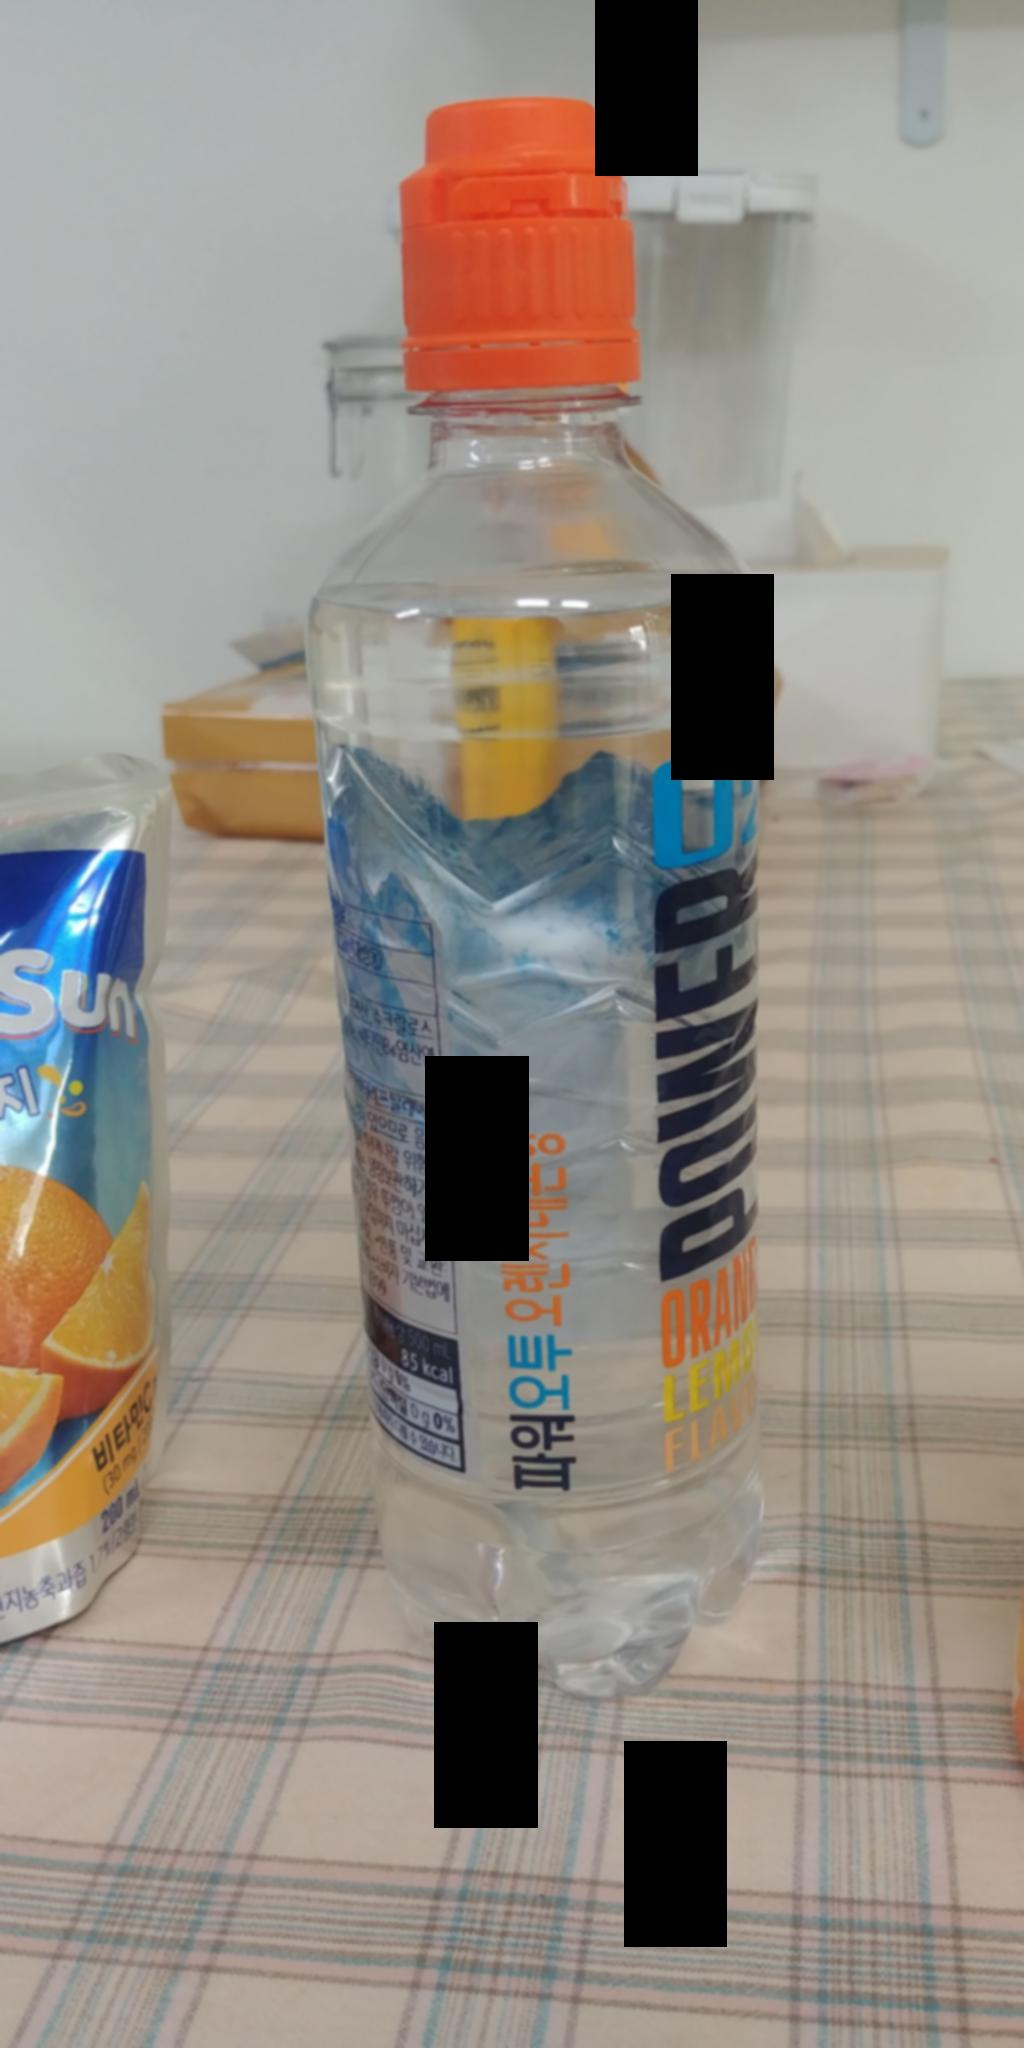powerO2_orange: (286, 84, 810, 1727)
